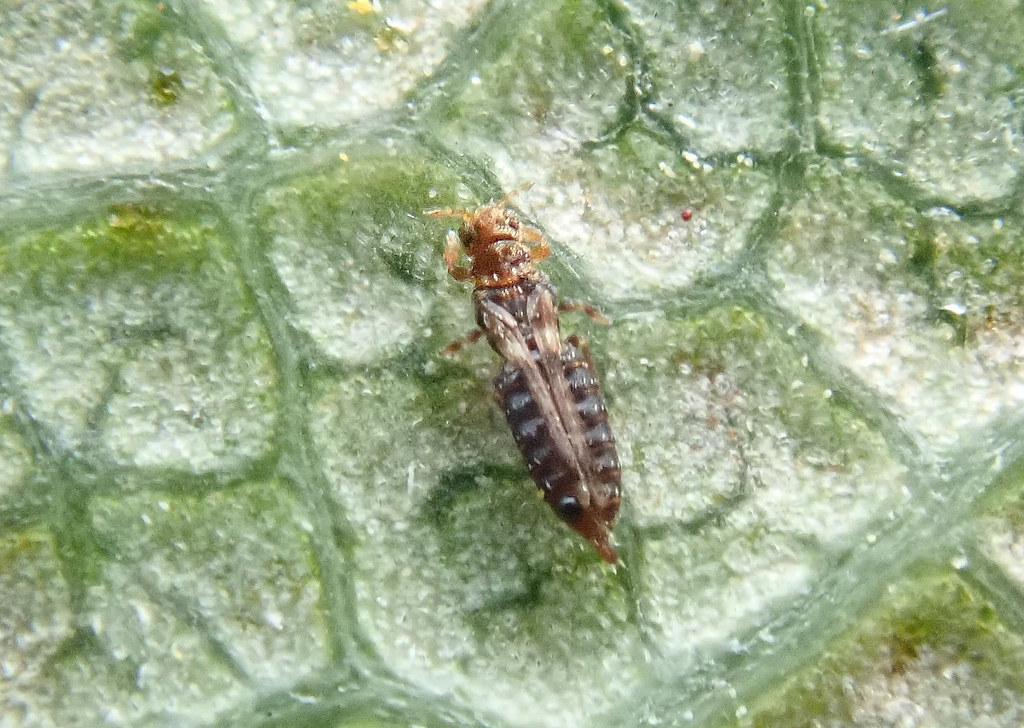Thrips: (421, 175, 661, 620)
